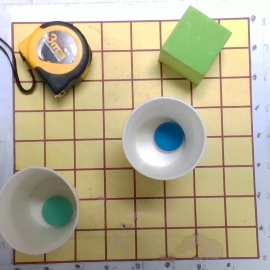cup_blue: (122, 96, 206, 180)
cup_green: (2, 163, 84, 254)
